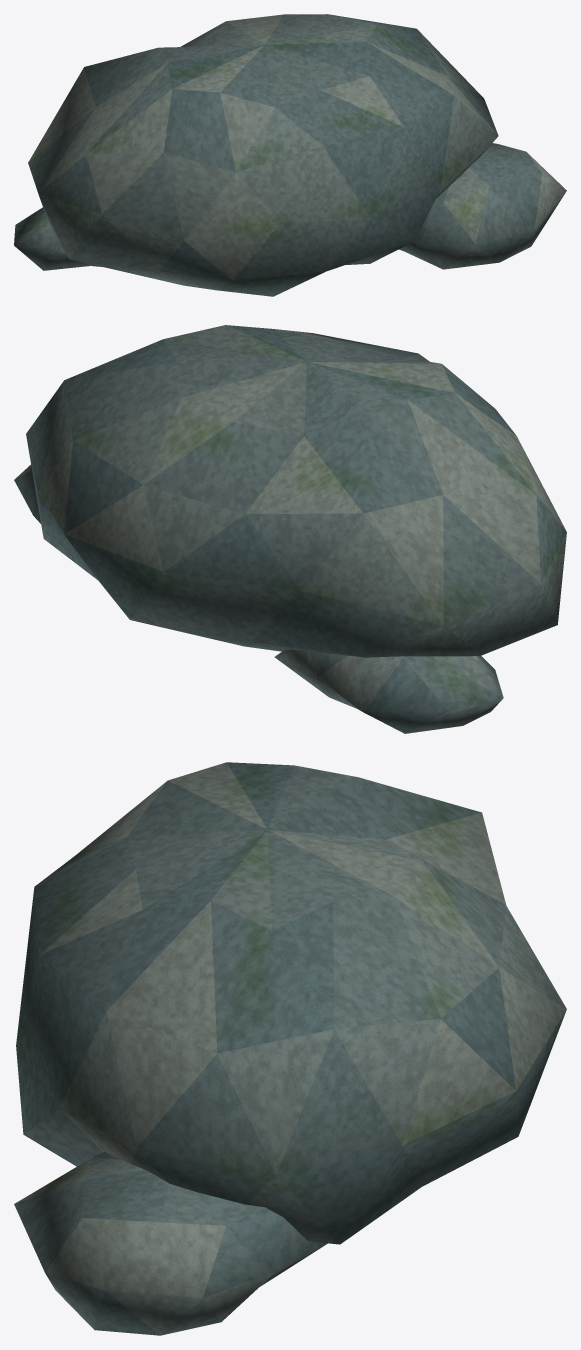
Rendered from rock.glb.
3 views of the same model, one above another, from view 1: azimuth 30°, elevation 25°; view 2: azimuth 150°, elevation 25°; view 3: azimuth 270°, elevation 25° (orthographic). The views are drawn at different scales.
Parts seen in each view (by area): view 1: Water-cut boulder with flaked wedge and companions; view 2: Water-cut boulder with flaked wedge and companions; view 3: Water-cut boulder with flaked wedge and companions.
Part boxes in pixels (x1,y1,x2,y2): Water-cut boulder with flaked wedge and companions: [14, 14, 566, 296]; Water-cut boulder with flaked wedge and companions: [14, 325, 566, 733]; Water-cut boulder with flaked wedge and companions: [14, 762, 566, 1335].
Bounding box in the file's own units: 2.5 × 1.14 × 1.64.
1 material, 1 textured.
